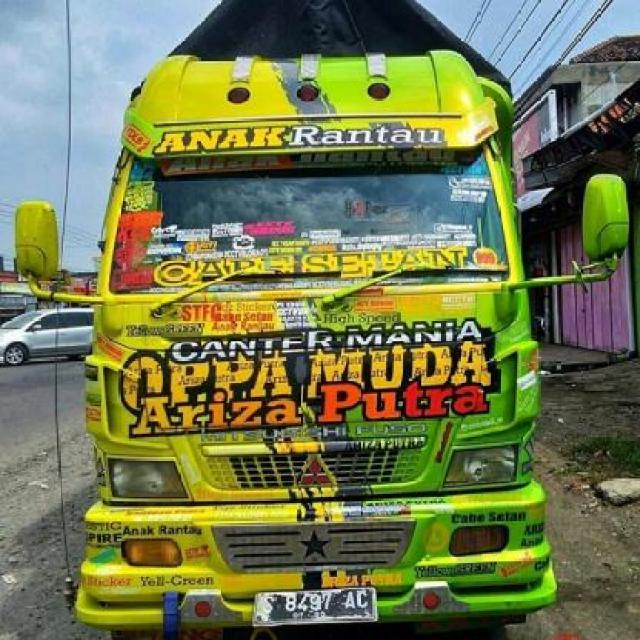truck: (13, 1, 629, 624)
